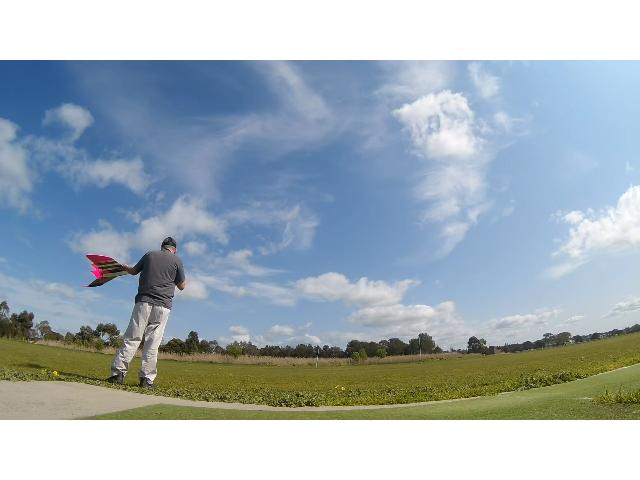Anti-Drone: (70, 243, 152, 305)
